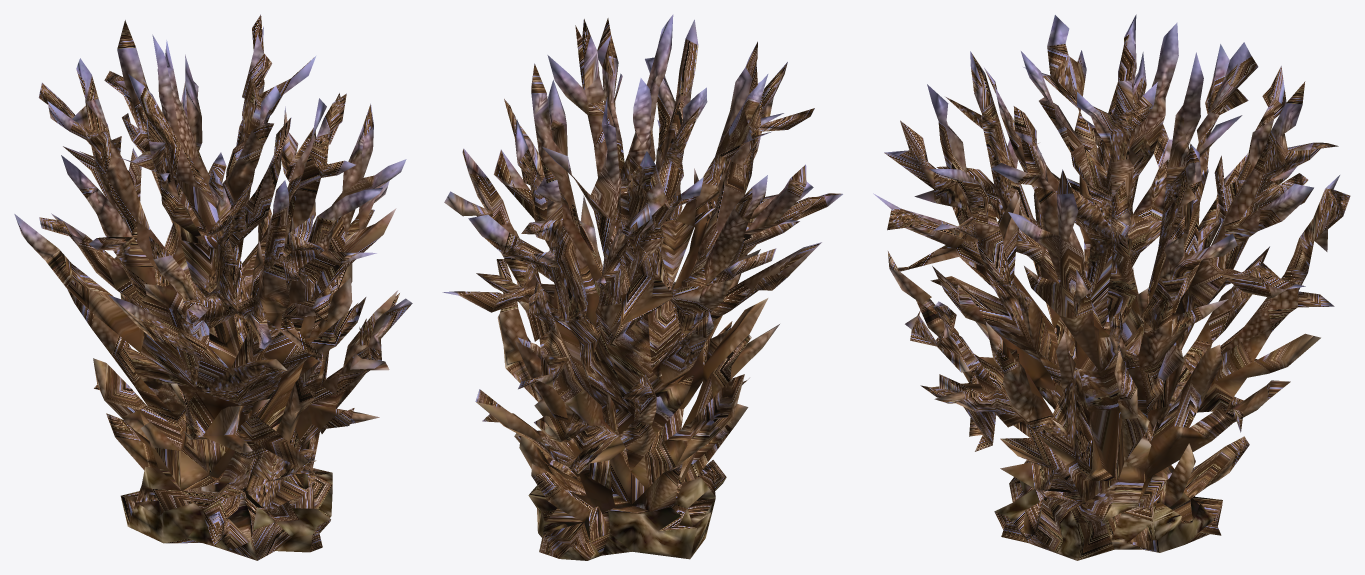
Rendered from hertshoornkoraal.glb.
The picture shows the model from 3 angles, left to right: view 1: azimuth 30°, elevation 25°; view 2: azimuth 150°, elevation 25°; view 3: azimuth 270°, elevation 25°; orthographic projection.
Visible parts, largest first — view 1: tripo_node_f632e815-c8c9-4c89-b541-956f56bd131c; view 2: tripo_node_f632e815-c8c9-4c89-b541-956f56bd131c; view 3: tripo_node_f632e815-c8c9-4c89-b541-956f56bd131c.
Boxes of the visible parts, x1,y1,x2,y2 form: tripo_node_f632e815-c8c9-4c89-b541-956f56bd131c: (14, 14, 412, 560); tripo_node_f632e815-c8c9-4c89-b541-956f56bd131c: (442, 14, 842, 560); tripo_node_f632e815-c8c9-4c89-b541-956f56bd131c: (873, 14, 1350, 560).
Bounding box in the file's own units: 0.1633 × 0.249 × 0.2131.
1 material, 1 textured.
